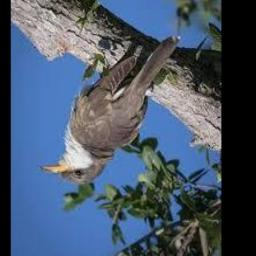Cuckoo: (40, 35, 180, 184)
